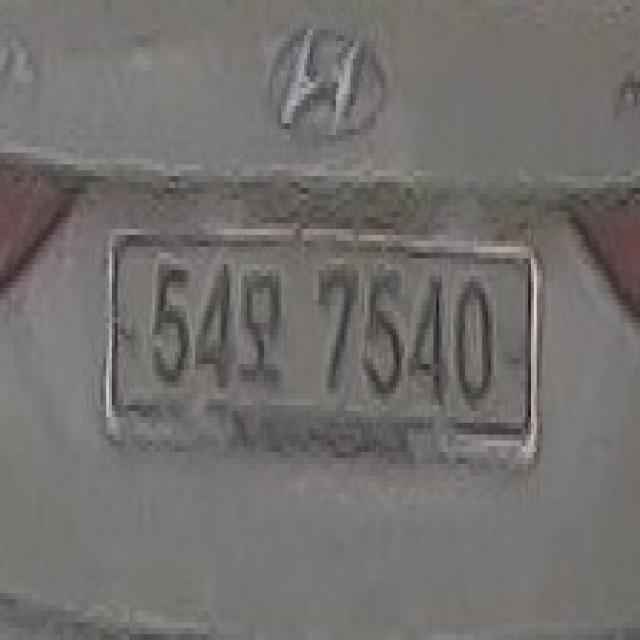0: (451, 270, 502, 417)
4: (411, 264, 454, 417)
5: (144, 240, 192, 388), (358, 270, 408, 405)
7: (318, 246, 362, 394)
license_plate: (89, 235, 551, 470)
mo: (235, 252, 287, 388)
